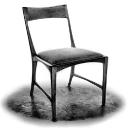chair_success: (15, 3, 112, 124)
